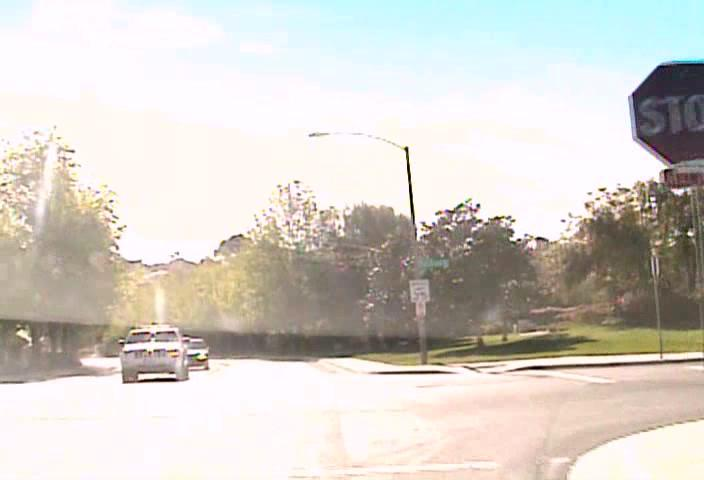speedLimitUrdbl: (409, 278, 429, 303)
